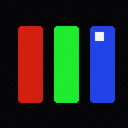1 square: (95, 32, 103, 40)
